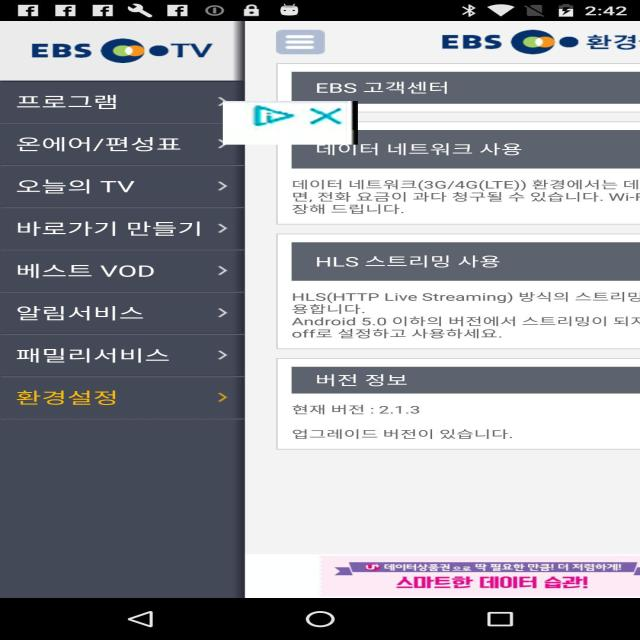sneaking: (223, 101, 358, 145)
